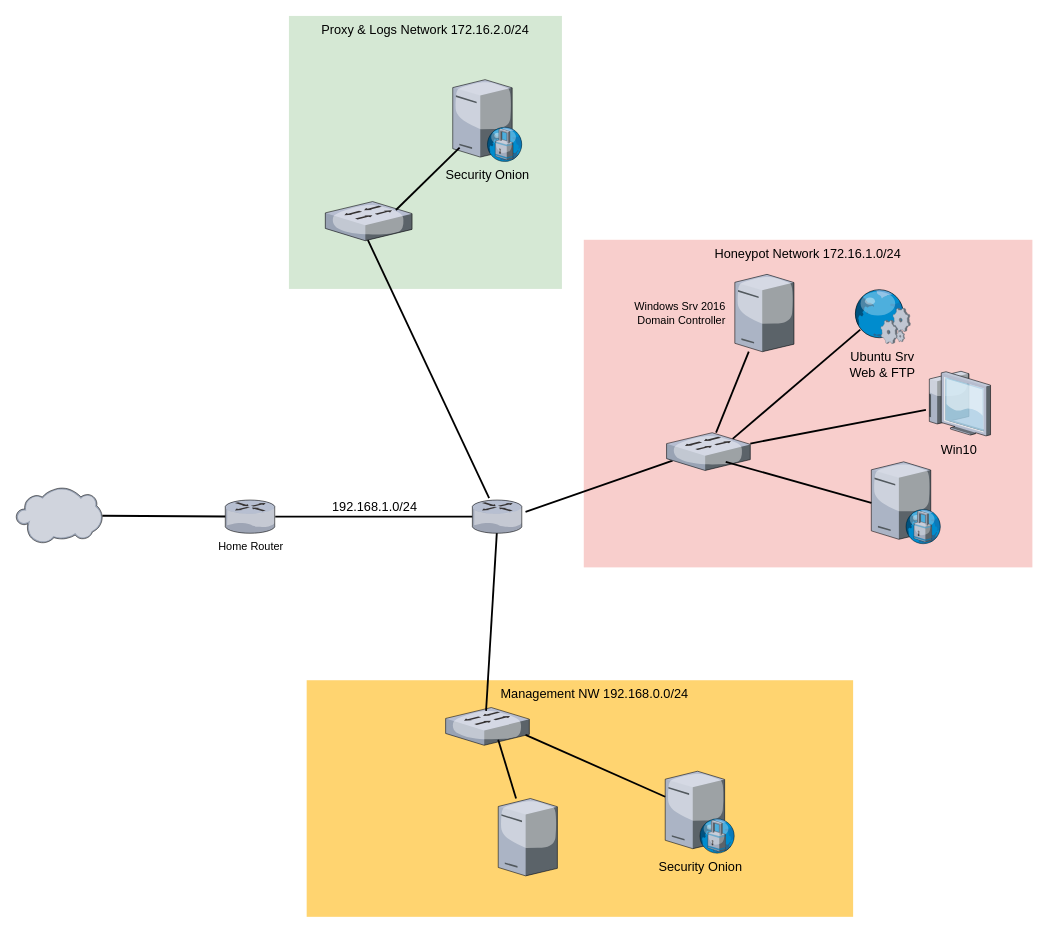
This 1047x932 diagram has some shape labels left out. Here are the shapes that lost their labels. From the top down, the centre of each, then its label:
At (x=58, y=515): "Internet".
At (x=497, y=516): "PFSense".
At (x=905, y=502): "Security Onion (SNIFFER)".
At (x=527, y=836): "Ubuntu Srv Snapshot Manager".
